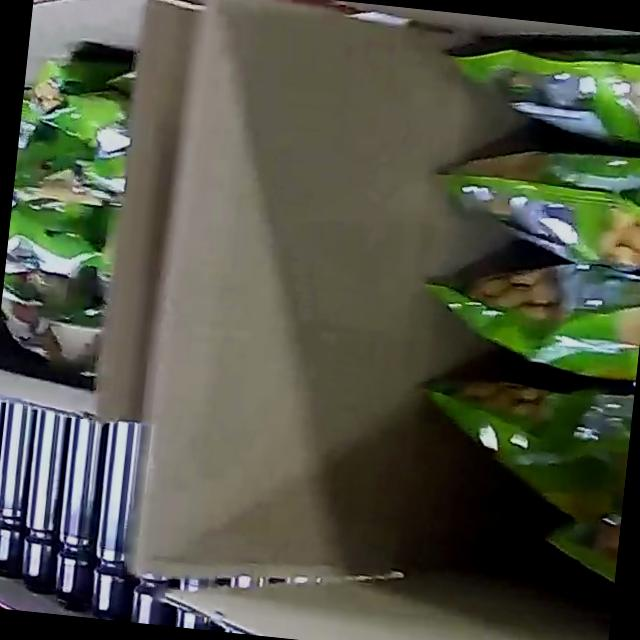yogurt: (399, 32, 640, 557), (0, 46, 138, 374)
